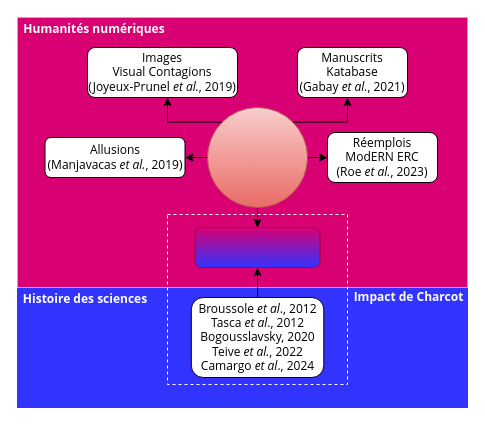
The diagram is 485 pixels wide and 425 high, and some of its shapes have lost their labels. Each missing label, with the centre of its shape:
Circulations: pixel 257 157
Discours médical (Petkovic et al. , 2023): pixel 257 247
